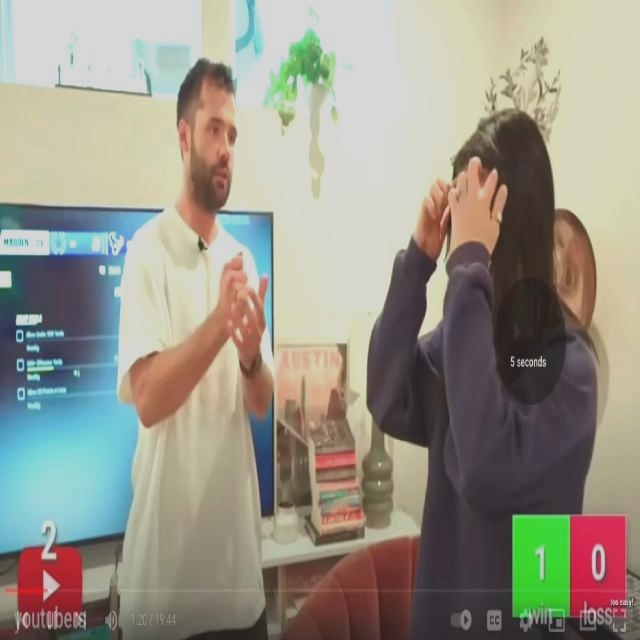Rock: (219, 250, 251, 342)
